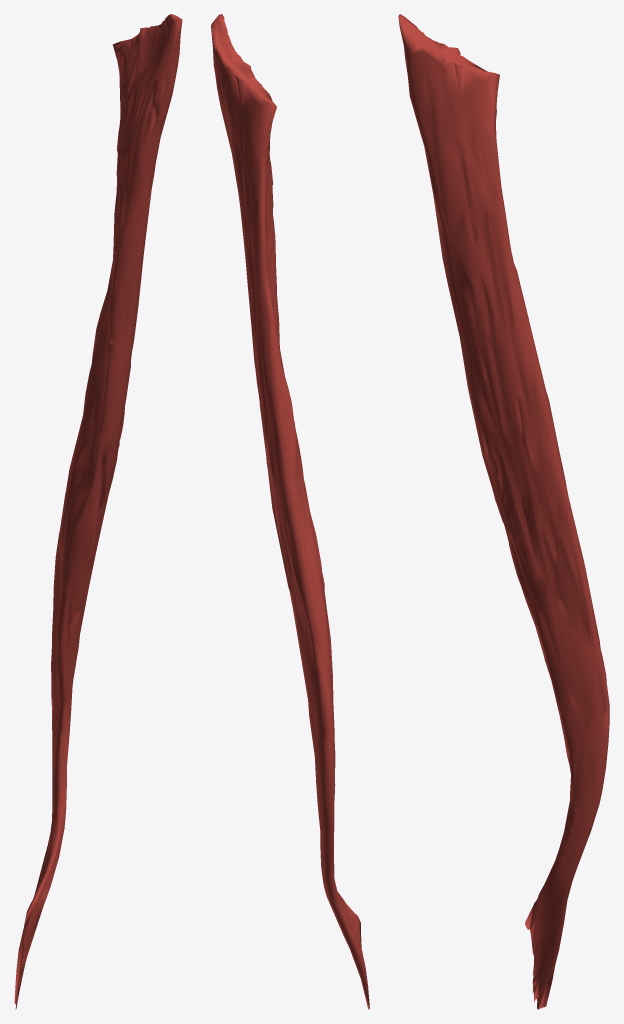
File: musculos-gracilis-muscle-r.glb
The picture shows the model from 3 angles, left to right: view 1: azimuth 30°, elevation 25°; view 2: azimuth 210°, elevation 25°; view 3: azimuth 270°, elevation 25°; orthographic projection. The views are drawn at different scales.
Visible parts, largest first — view 1: Gracilis muscle.r; view 2: Gracilis muscle.r; view 3: Gracilis muscle.r.
Part boxes in pixels (x1=…): Gracilis muscle.r: x1=14, y1=14, x2=182, y2=1009; Gracilis muscle.r: x1=211, y1=14, x2=369, y2=1009; Gracilis muscle.r: x1=398, y1=14, x2=609, y2=1009.
Bounding box in the file's own units: 0.0531 × 0.4928 × 0.0907.
